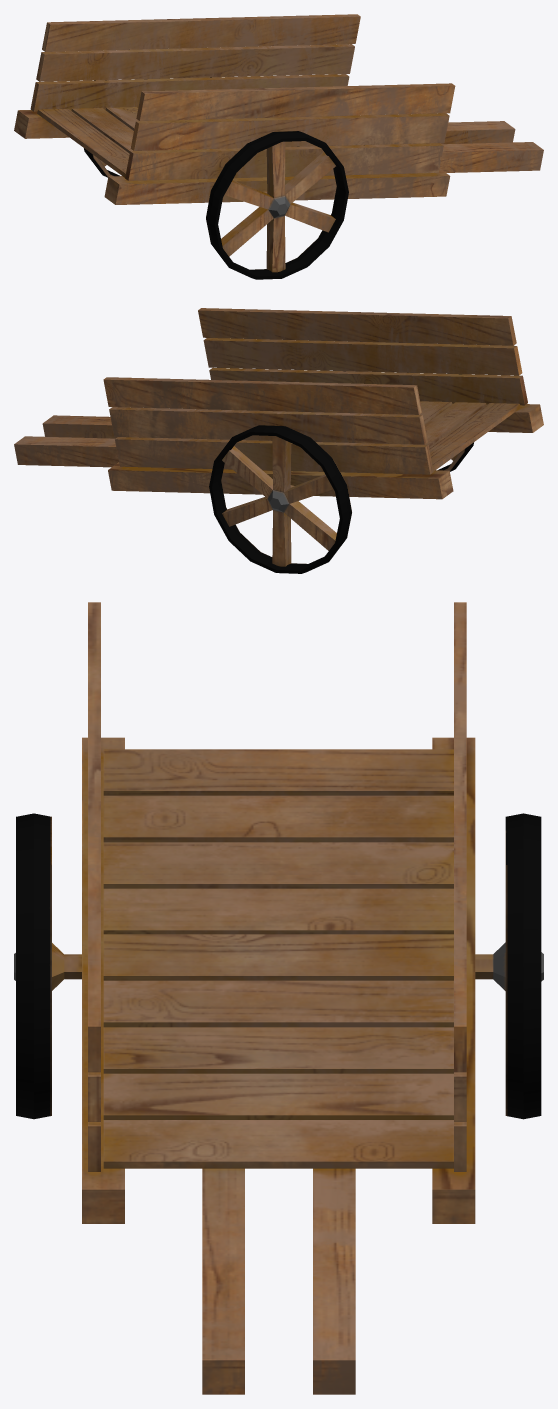
Rendered from RodKonKong.fbx.
The picture shows the model from 3 angles, top to bottom: view 1: azimuth 30°, elevation 25°; view 2: azimuth 150°, elevation 25°; view 3: azimuth 270°, elevation 25°; orthographic projection. The views are drawn at different scales.
Visible parts, largest first — view 1: RodKonKong; view 2: RodKonKong; view 3: RodKonKong.
Part boxes in pixels (x1,y1,x2,y2): RodKonKong: (14, 14, 543, 279); RodKonKong: (14, 308, 543, 573); RodKonKong: (14, 602, 543, 1394).
Size of the model in its own units: 9.29 by 3.9 by 4.79.
